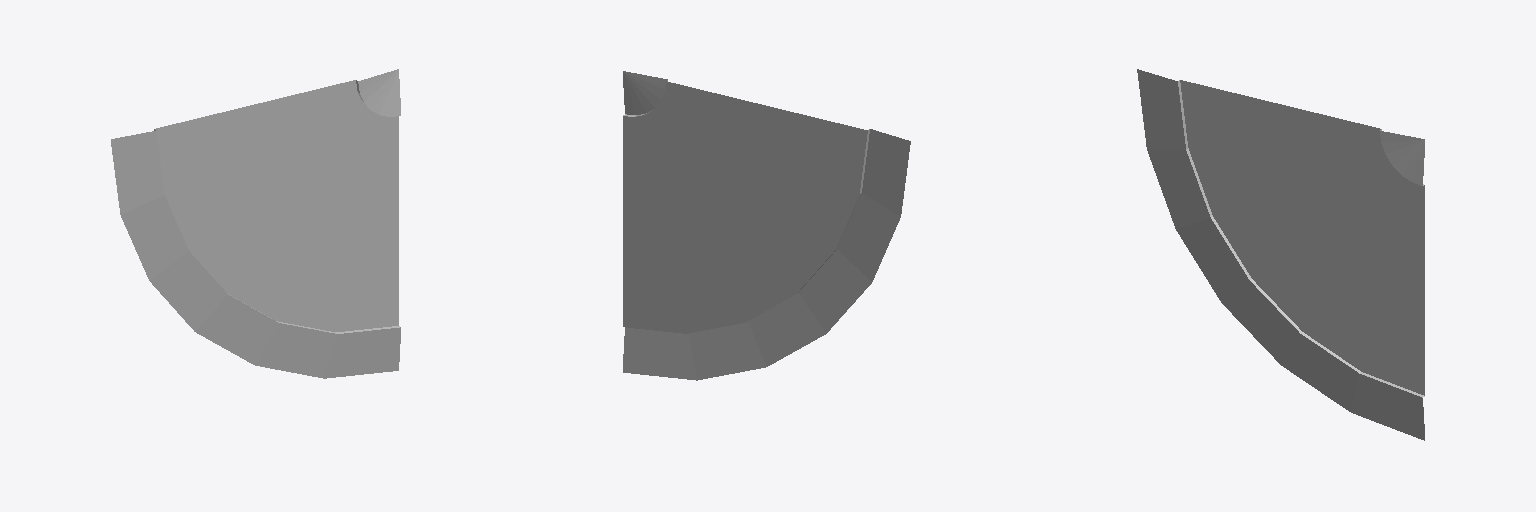
The model's file is igs_road_curve.obj.
The picture shows the model from 3 angles: view 1: azimuth 30°, elevation 25°; view 2: azimuth 150°, elevation 25°; view 3: azimuth 330°, elevation 25°; orthographic projection.
Bounding box in the file's own units: 1 × 1 × 0.015.